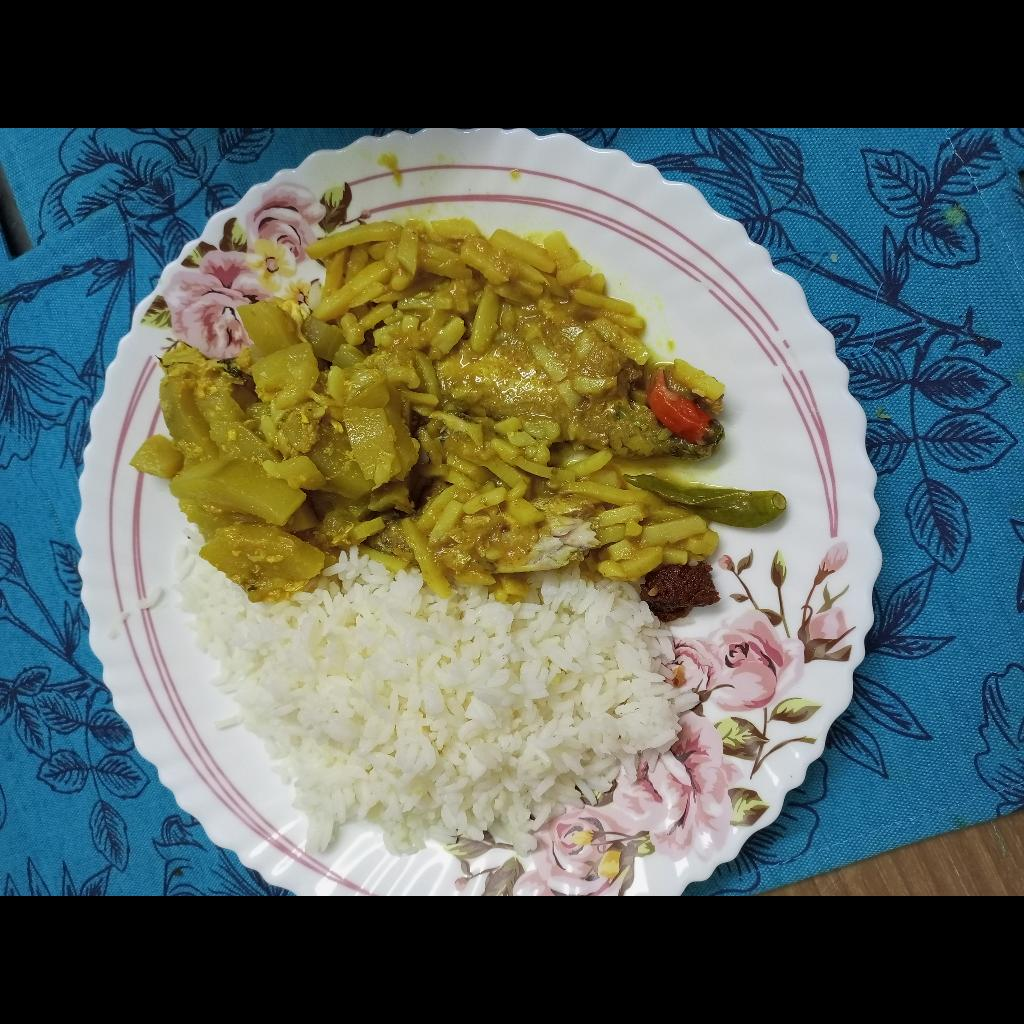fish: (435, 313, 726, 456)
lau: (125, 301, 418, 601)
potato: (305, 215, 717, 599)
rice: (171, 510, 706, 869)
